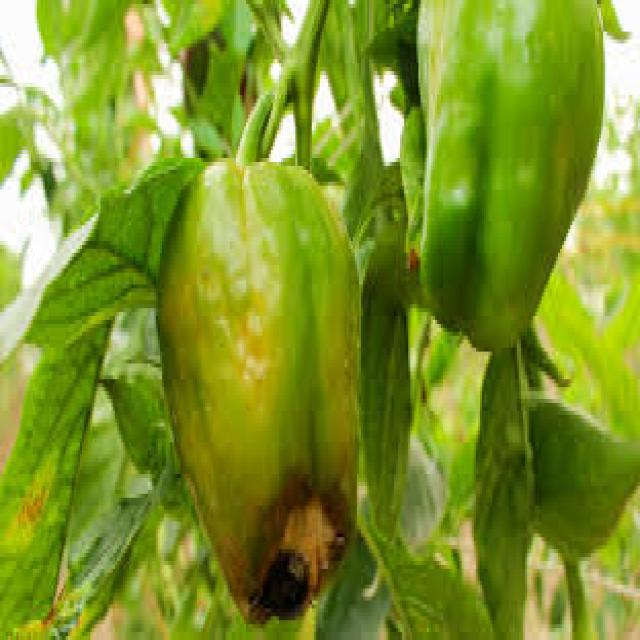Wet Waste: (150, 140, 374, 631)
